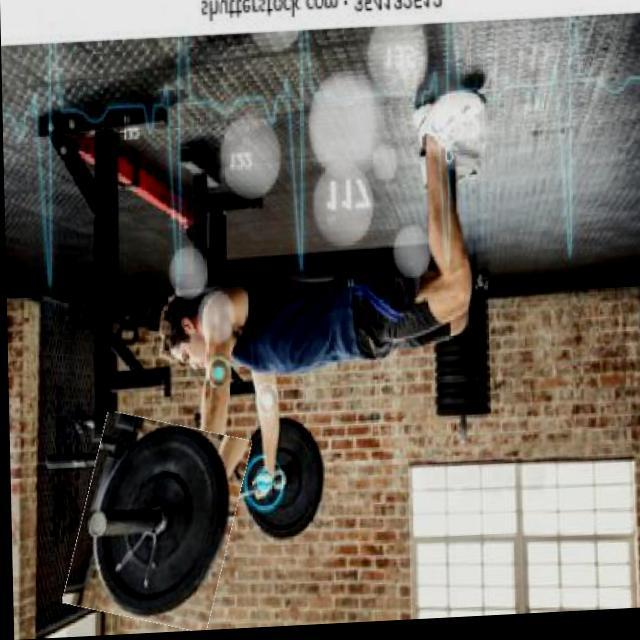barbell: (69, 416, 243, 635)
